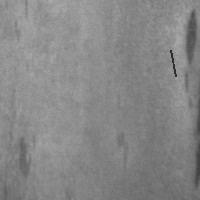inclusion: (176, 6, 199, 110), (11, 132, 38, 182), (113, 130, 135, 168), (10, 17, 27, 44), (168, 48, 177, 78)
